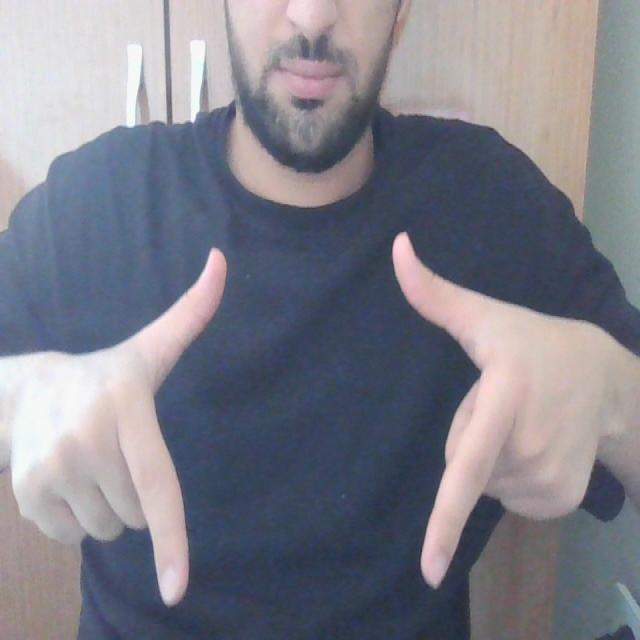Nerede: (108, 223, 533, 612)
